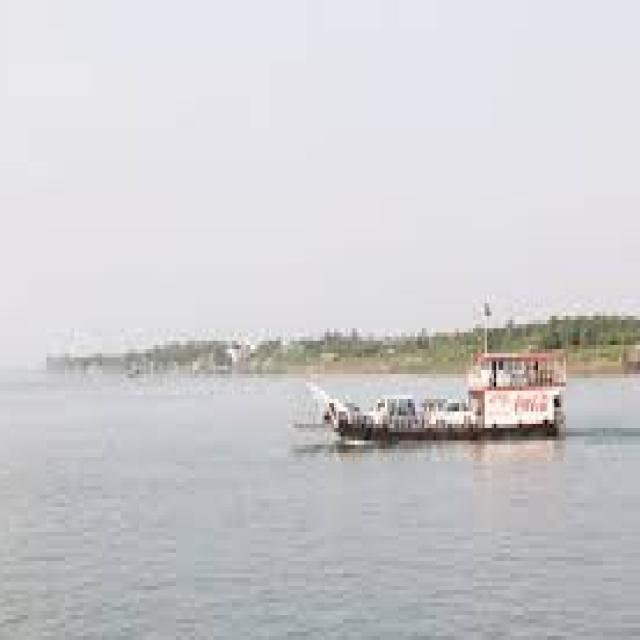cargoship: (303, 315, 577, 456)
